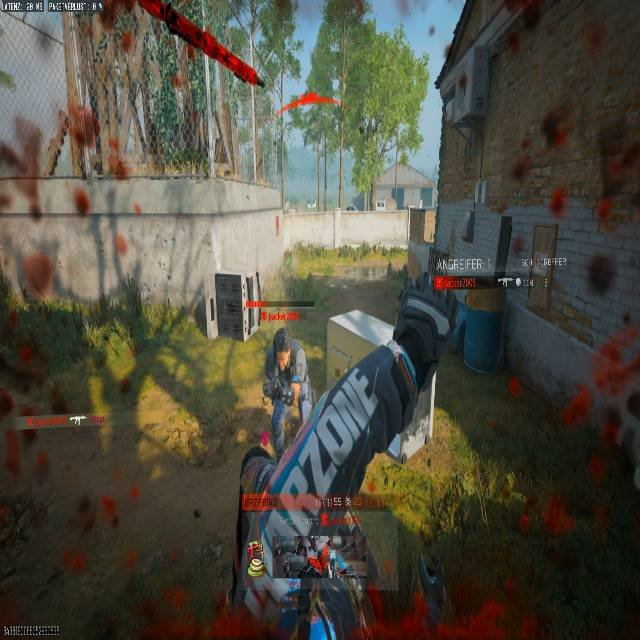player: (260, 323, 304, 444)
